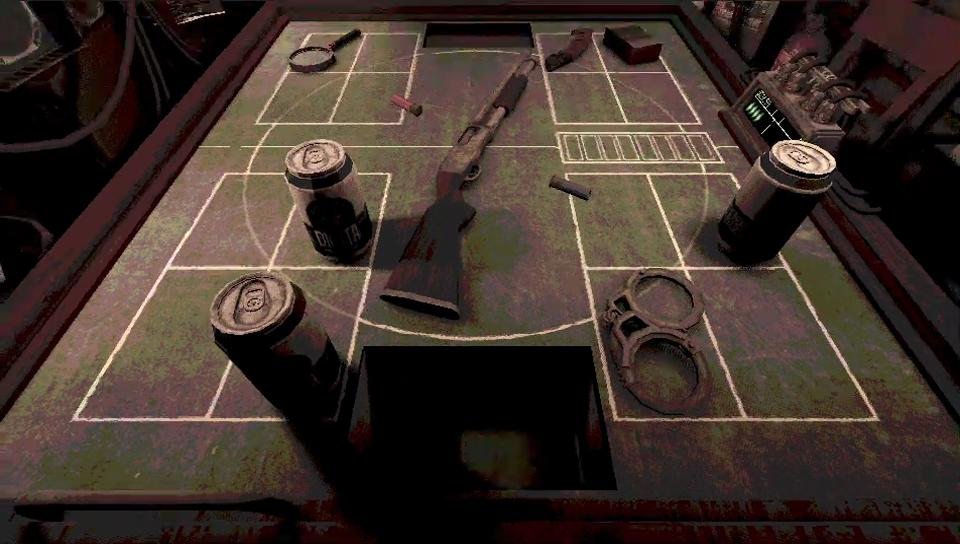can: (211, 272, 346, 419), (719, 141, 836, 264), (284, 139, 373, 261)
cigar: (603, 25, 662, 66)
doubledamage: (352, 31, 417, 72), (545, 28, 592, 71)
emptyspace: (692, 266, 878, 418), (73, 264, 254, 419), (164, 169, 290, 274), (564, 168, 682, 269), (257, 71, 345, 122), (549, 72, 628, 124), (330, 69, 410, 120), (616, 71, 696, 120)
gun: (379, 54, 539, 319)
handcuff: (598, 268, 710, 415)
inventorybox: (367, 344, 620, 496)
lens: (287, 28, 361, 71)
